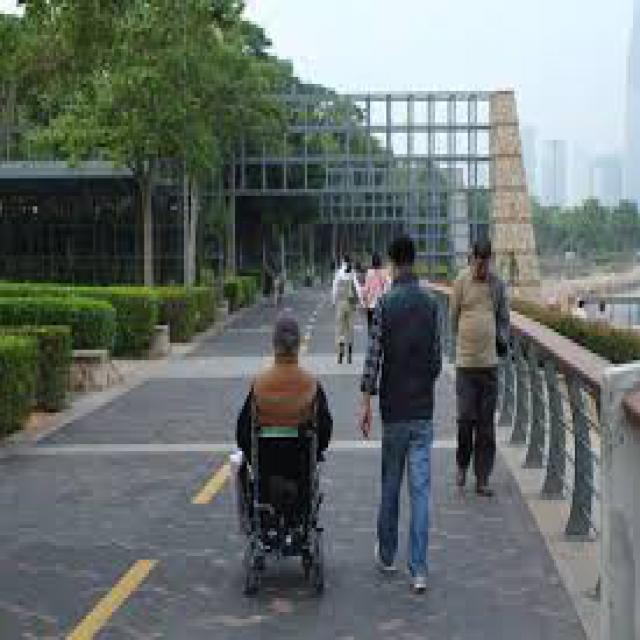wheelchairs: (232, 384, 346, 598)
